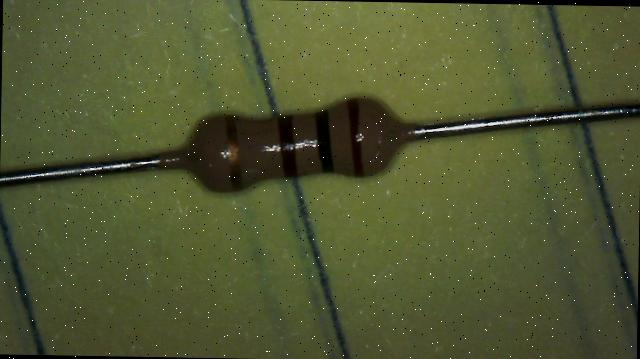black: (316, 108, 336, 174)
brown: (345, 96, 368, 171), (276, 114, 298, 176)
gold: (224, 110, 243, 194)
resistor: (175, 71, 421, 222)
